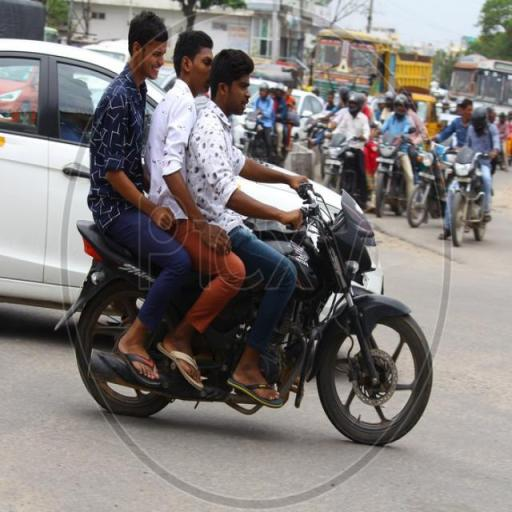bike: (63, 59, 449, 479)
tripple riding: (110, 17, 429, 465)
